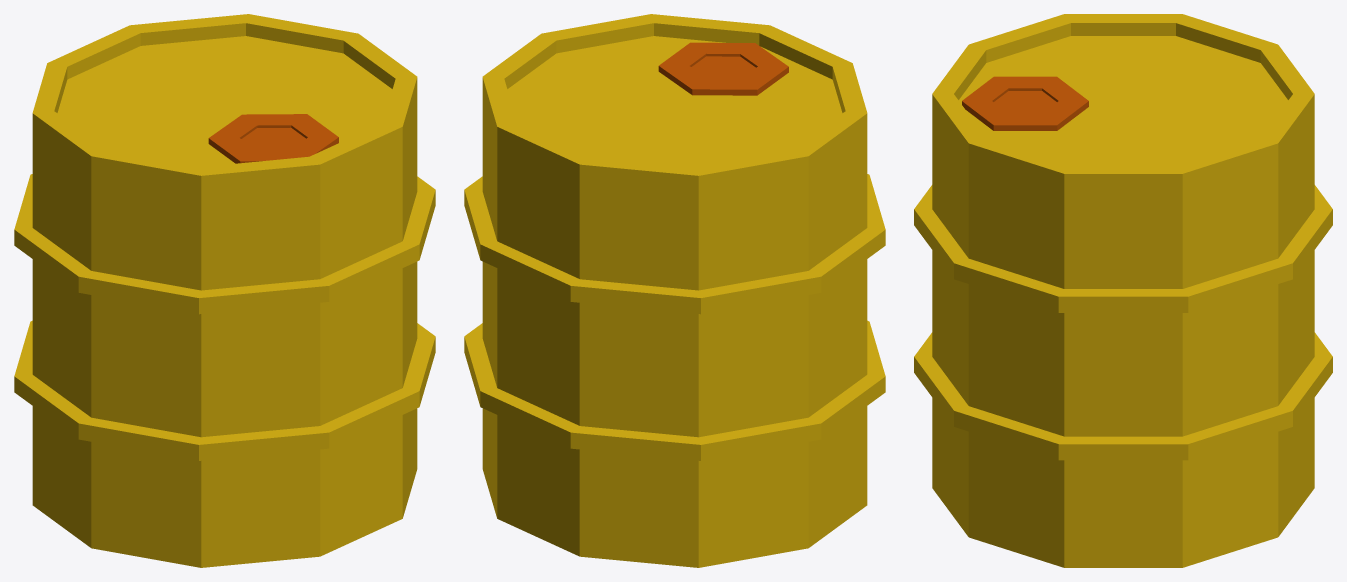
The model's file is pipe.glb.
3 renders of one model, left to right at view 1: azimuth 30°, elevation 25°; view 2: azimuth 150°, elevation 25°; view 3: azimuth 270°, elevation 25°, orthographic.
Visible parts, largest first — view 1: OilDrum_04_Cylinder.007; view 2: OilDrum_04_Cylinder.007; view 3: OilDrum_04_Cylinder.007.
Part boxes in pixels (x1=…): OilDrum_04_Cylinder.007: x1=14, y1=14, x2=435, y2=567; OilDrum_04_Cylinder.007: x1=464, y1=14, x2=885, y2=567; OilDrum_04_Cylinder.007: x1=914, y1=14, x2=1332, y2=567.
Size of what is drawn, in the model's own units: 1.81 by 1.9 by 1.83.
